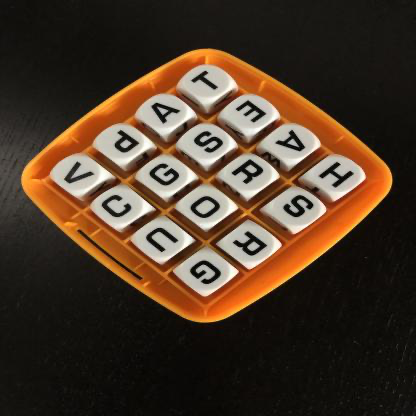a: (264, 126, 318, 163), (142, 97, 187, 130)
c: (95, 190, 147, 226)
e: (223, 97, 275, 131)
g: (181, 254, 236, 292), (143, 159, 191, 192)
h: (312, 158, 364, 198)
o: (183, 189, 230, 227)
p: (96, 128, 146, 161)
r: (223, 226, 275, 265), (224, 158, 272, 197)
s: (267, 191, 326, 228), (184, 130, 232, 161)
t: (181, 67, 233, 101)
u: (137, 223, 192, 258)
v: (55, 153, 103, 192)
